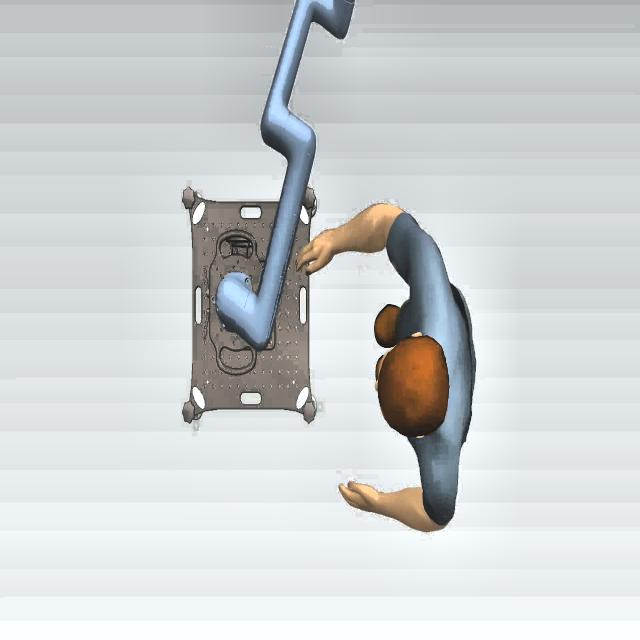robot: (209, 0, 358, 354)
